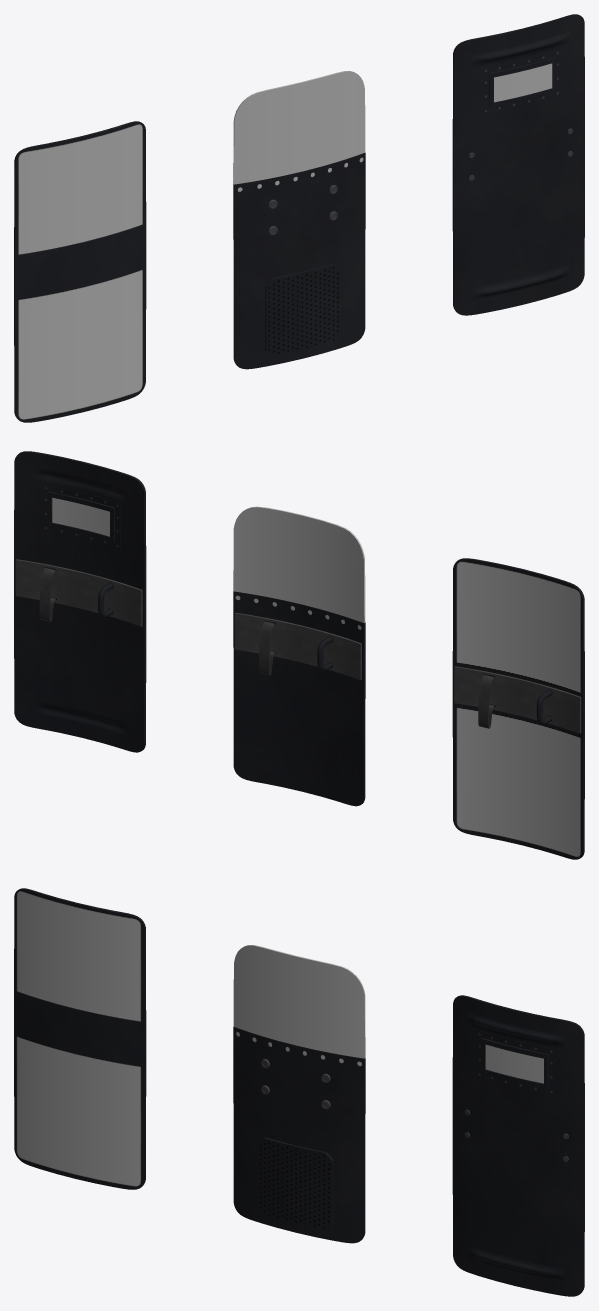
The model's file is riot shield.fbx.
3 views of the same model, one above another, from view 1: azimuth 30°, elevation 25°; view 2: azimuth 150°, elevation 25°; view 3: azimuth 330°, elevation 25° (orthographic).
Parts seen in each view (by area): view 1: shield_riot3, shield_riot1, shield_riot2; view 2: shield_riot1, shield_riot3, shield_riot2; view 3: shield_riot1, shield_riot3, shield_riot2.
Boxes of the visible parts, x1,y1,x2,y2 form: shield_riot3: [14, 121, 146, 422]; shield_riot1: [452, 14, 584, 315]; shield_riot2: [233, 71, 365, 369]; shield_riot1: [14, 451, 146, 752]; shield_riot3: [452, 558, 584, 859]; shield_riot2: [233, 506, 365, 806]; shield_riot1: [452, 995, 584, 1296]; shield_riot3: [14, 888, 146, 1189]; shield_riot2: [233, 945, 365, 1243].
Size of the model in its own units: 0.1143 by 1.2 by 2.6.
Materials: 1 (1 with a texture image).
